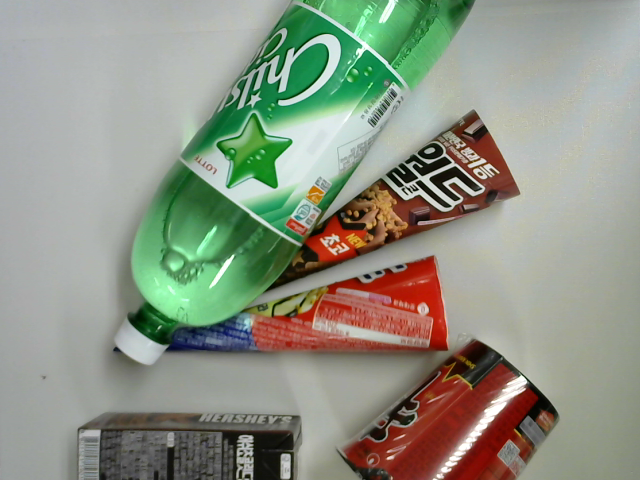Chilseong_Cider_1.5L: (113, 1, 475, 369)
Choco_E_Mong: (77, 409, 306, 480)
Sinramen_small: (334, 336, 560, 480)
World_Cone_Banila: (108, 252, 455, 354)
World_Cone_Choco: (259, 108, 524, 292)
